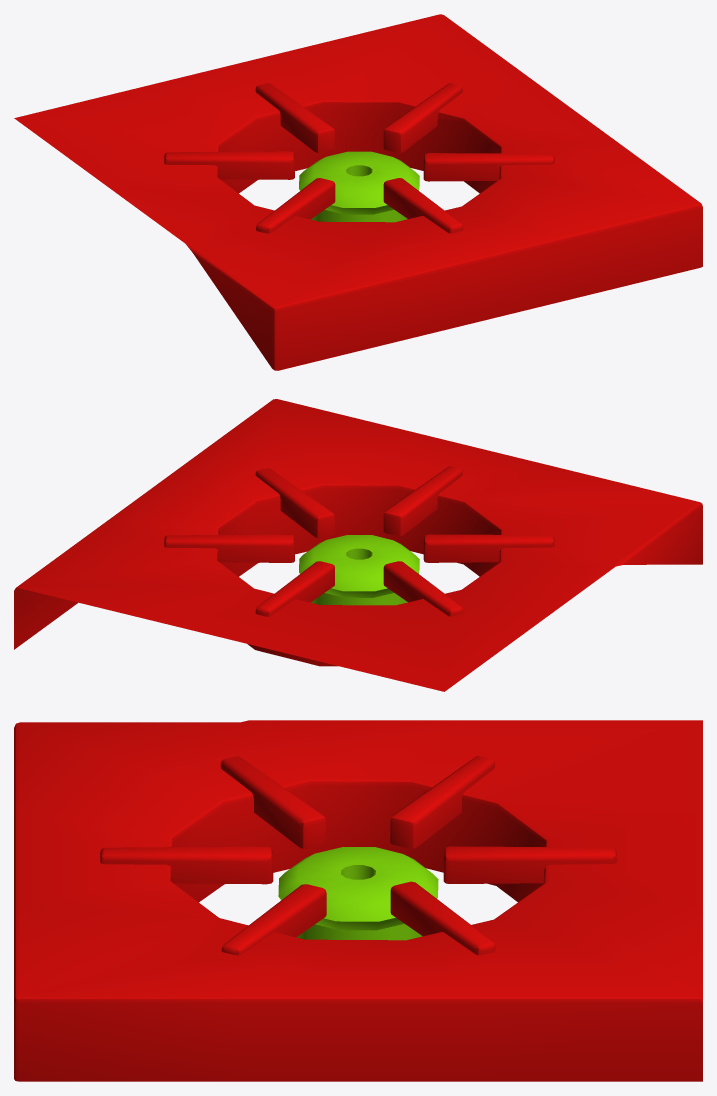
Rendered from stove.fbx.
The picture shows the model from 3 angles, top to bottom: view 1: azimuth 30°, elevation 25°; view 2: azimuth 150°, elevation 25°; view 3: azimuth 270°, elevation 25°; orthographic projection. The views are drawn at different scales.
Visible parts, largest first — view 1: stove.002; view 2: stove.002; view 3: stove.002.
Part boxes in pixels (box(x1,y1,x2,y2)): stove.002: box(14, 14, 702, 370); stove.002: box(14, 399, 702, 691); stove.002: box(14, 720, 702, 1081).
Size of the model in its own units: 7.37 by 7.71 by 1.34.
